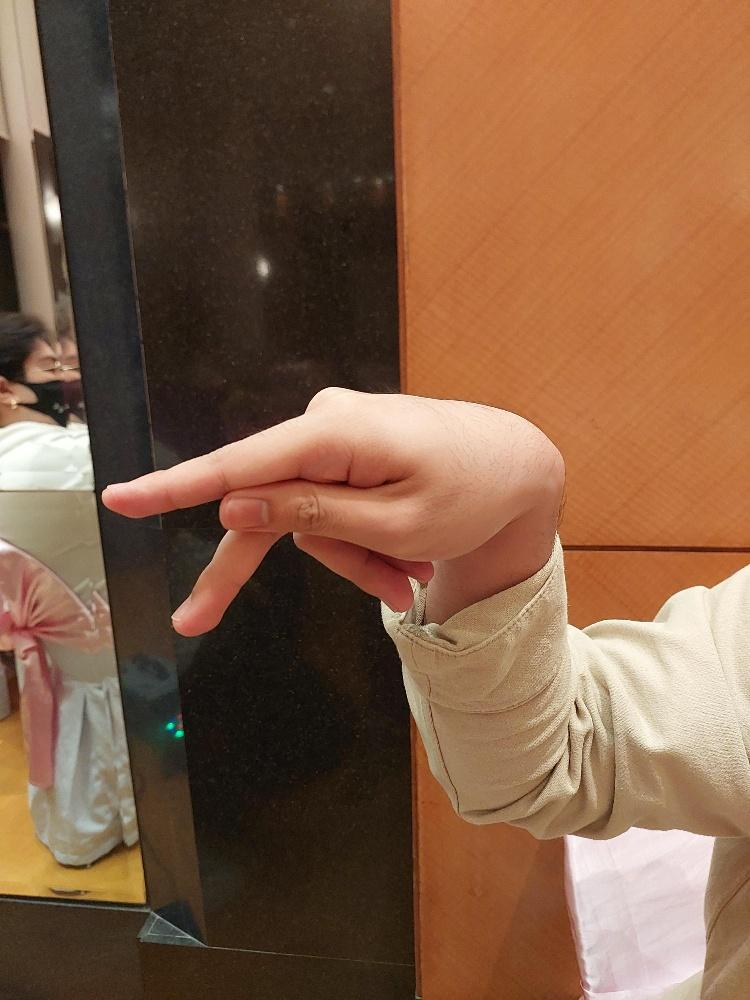p: (96, 383, 534, 638)
